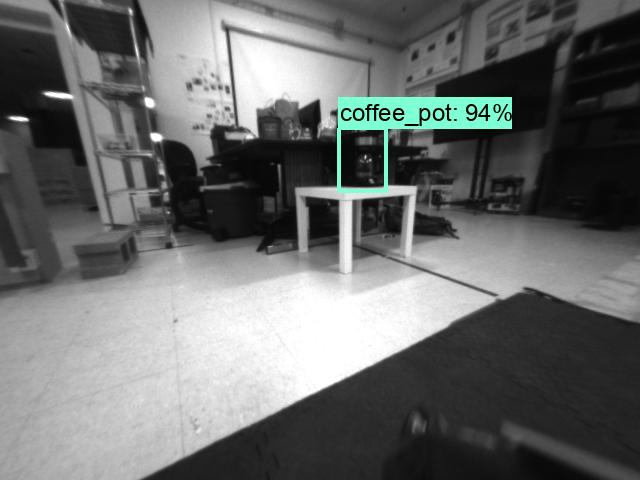coffee_pot: (340, 131, 388, 191)
